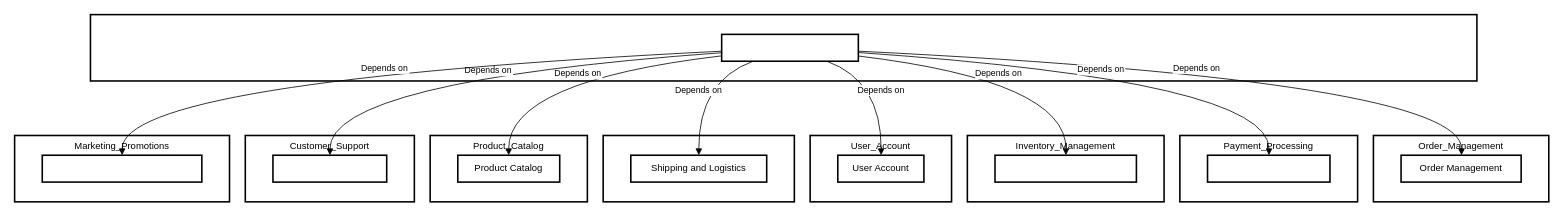
Some shapes in this 1563 by 216 pixel diagram are drawn without their labels. Here are the shapes that lost their labels. From the top down, the box of each, then its label:
(720, 33, 859, 62): E-Commerce Platform
(41, 154, 202, 182): Marketing and Promotions
(272, 154, 387, 182): Customer Support
(602, 134, 795, 202): Shipping_Logistics
(994, 154, 1137, 182): Inventory Management
(1206, 154, 1330, 182): Payment Processing
